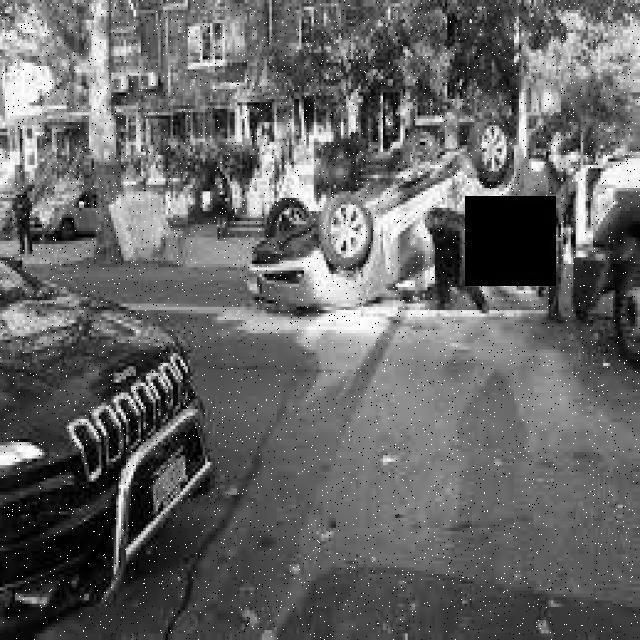accident: (245, 120, 532, 315)
vehicle: (0, 245, 218, 627), (577, 136, 640, 375), (31, 182, 113, 244)
